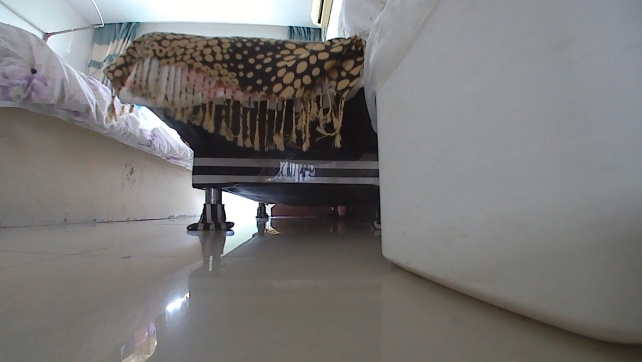bed1: (0, 22, 204, 229)
sofa1: (99, 30, 381, 234)
